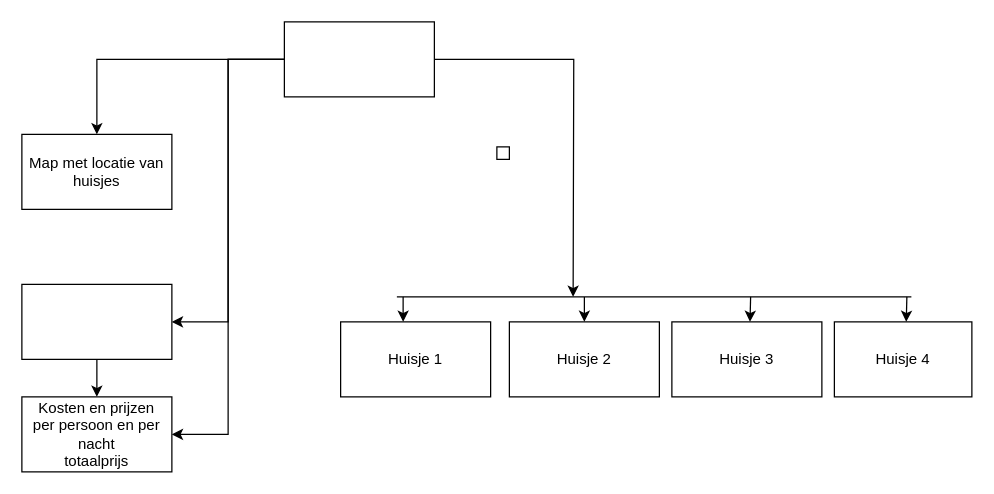
Image size: 994x494. Some labels were removed from this diagram. Here are the shapes that lost their labels. From the top down, the centre of each, then its label:
point 358,59: Home
point 96,321: Reservingskeuze menu
